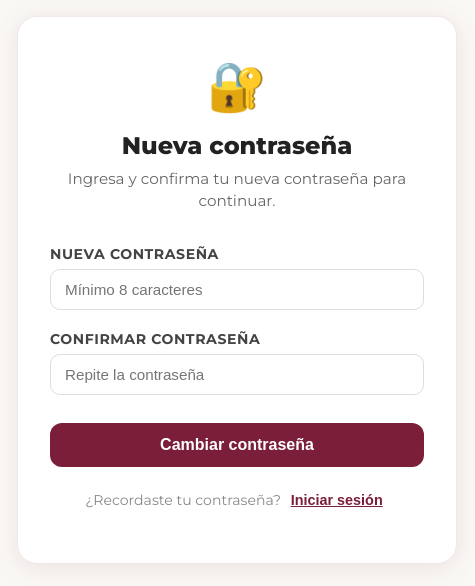
Test: ResetPassword — ramas extra › deshabilita el botón y muestra "Cambiando..." mientras carga
Type "ValidPass1!" into the password field labelled "Nueva contraseña" at point(237, 290), box [50,269,424,310]
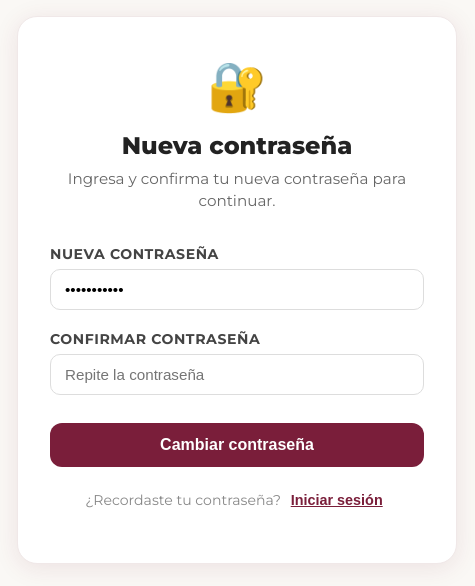
Type "ValidPass1!" into the password field labelled "Confirmar contraseña" at point(237, 375), box [50,354,424,395]
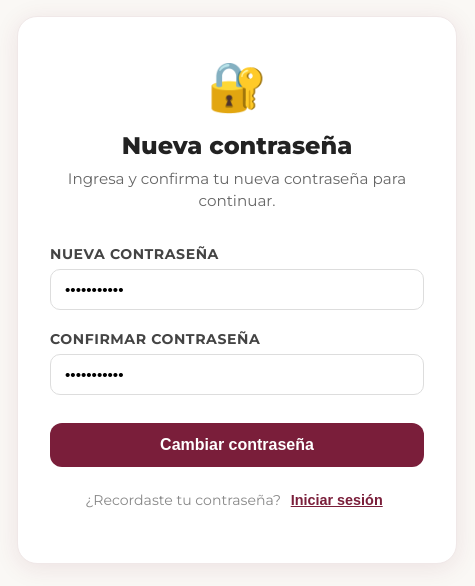
Click the button "Cambiar contraseña" at point(237, 445), box [50,423,424,467]
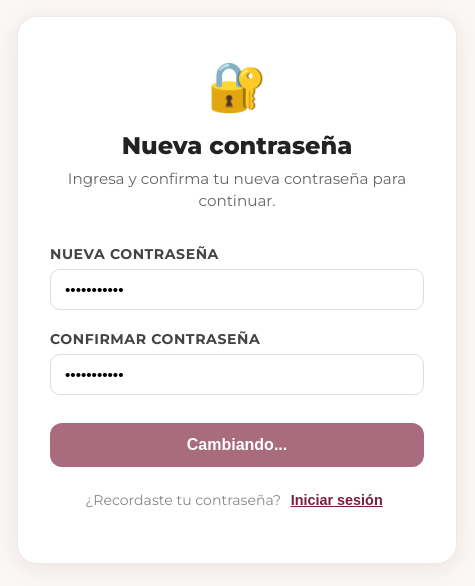
Check: the button "Cambiando..." is disabled, box [50,423,424,467]
